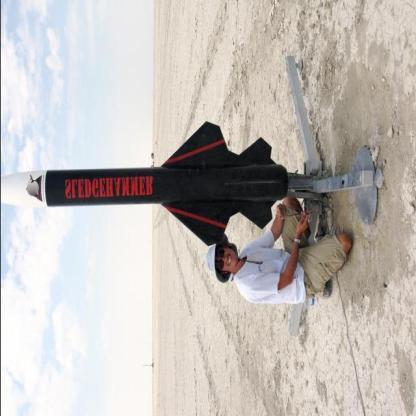MIL_TBM: (24, 168, 170, 210)
